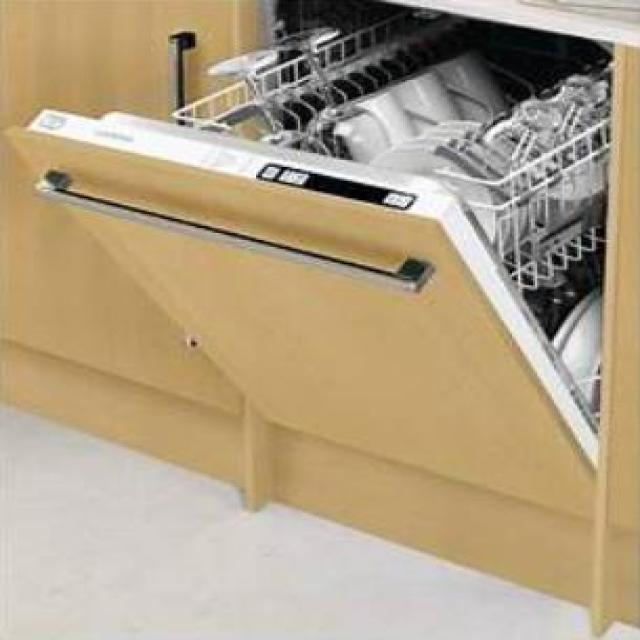dishwasher: (15, 0, 615, 525)
